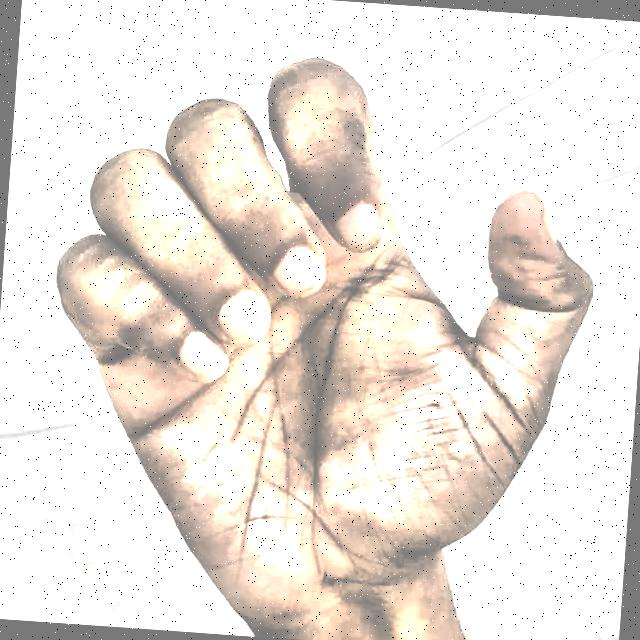Dho: (14, 21, 622, 640)
